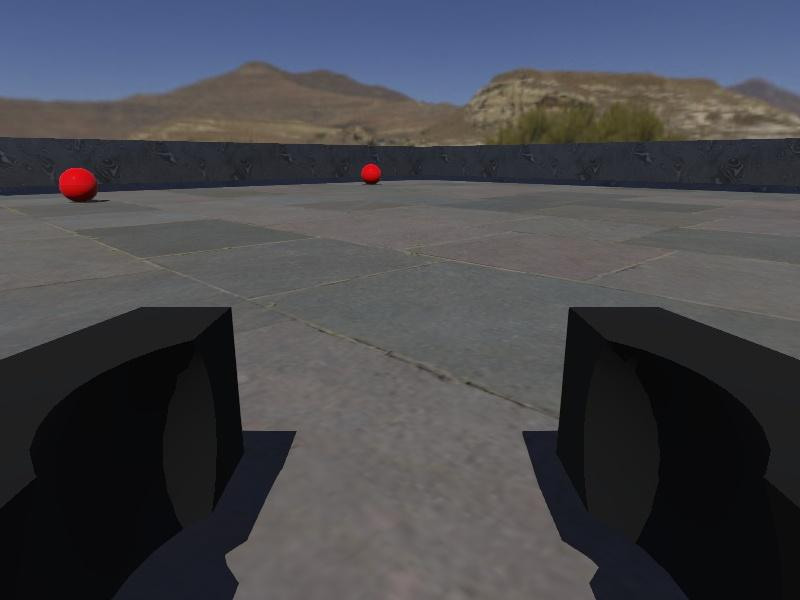red ball: (58, 167, 99, 203), (360, 163, 382, 185)
